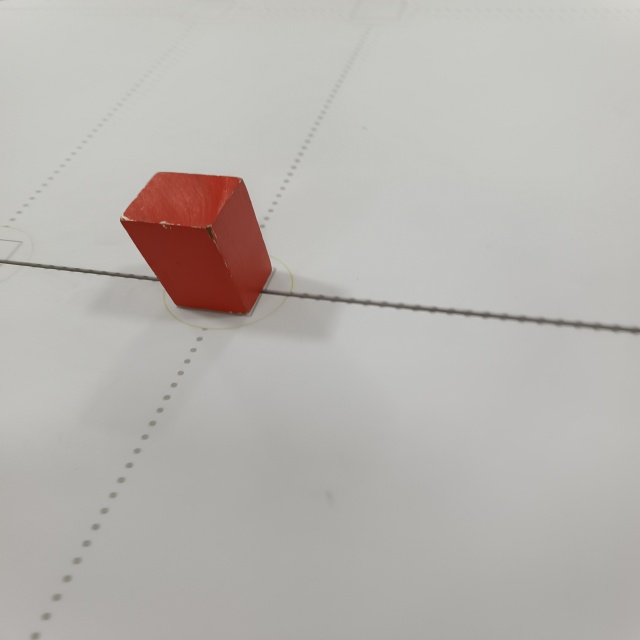red rectangular prism: (115, 166, 276, 318)
